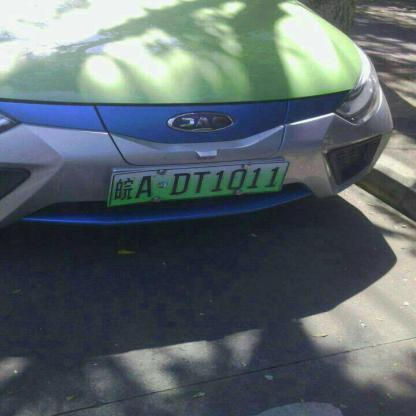lp: (107, 159, 288, 209)
